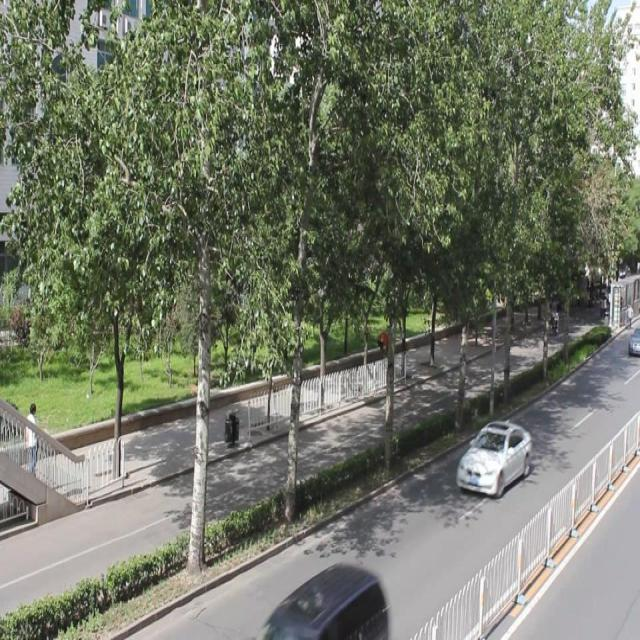car: (260, 562, 386, 640), (456, 420, 530, 496)
